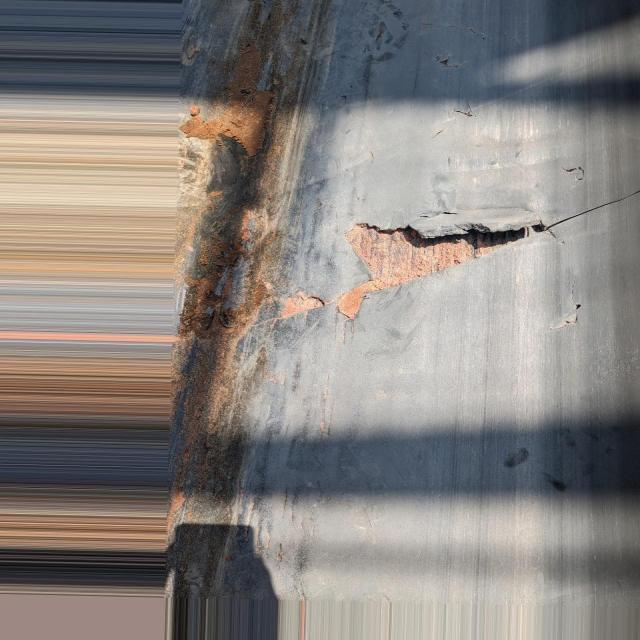Tear: (265, 185, 640, 332), (543, 282, 589, 336), (433, 18, 490, 38), (450, 100, 481, 118), (432, 54, 466, 70), (560, 164, 586, 184)
